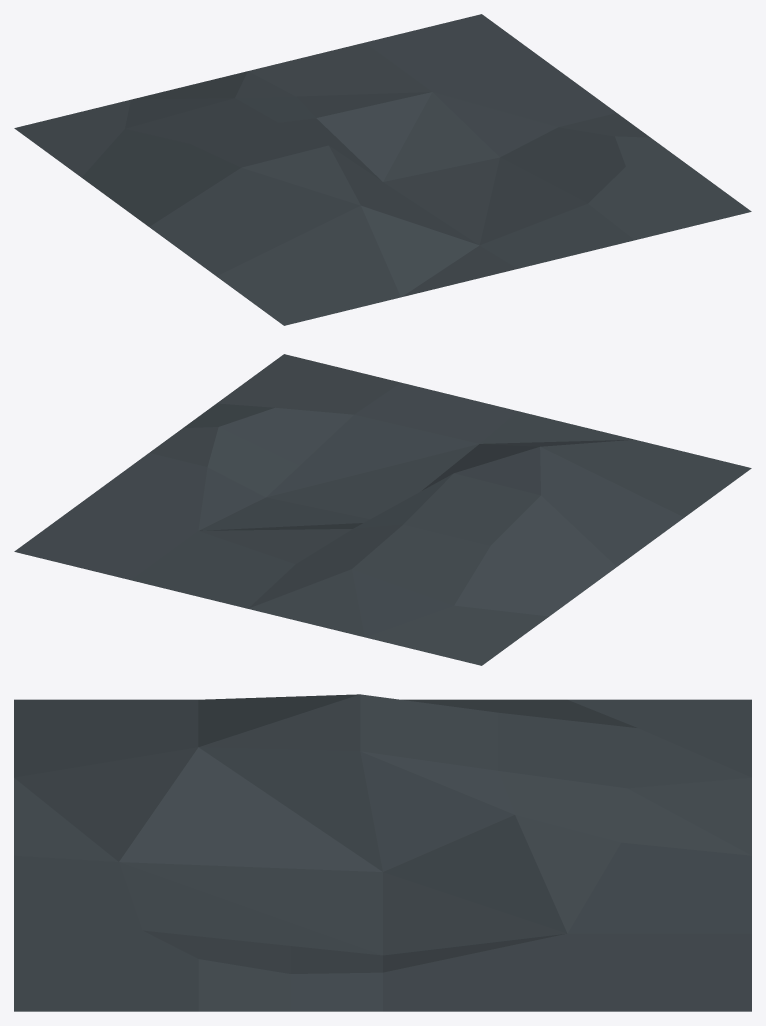
The model's file is Floor08.fbx.
The picture shows the model from 3 angles, top to bottom: view 1: azimuth 30°, elevation 25°; view 2: azimuth 150°, elevation 25°; view 3: azimuth 270°, elevation 25°; orthographic projection. The views are drawn at different scales.
Visible parts, largest first — view 1: Floor08; view 2: Floor08; view 3: Floor08.
Part boxes in pixels (left/top/right/bottom): Floor08: left=14, top=14, right=751, bottom=325; Floor08: left=14, top=354, right=751, bottom=665; Floor08: left=14, top=694, right=751, bottom=1011.
Size of the model in its own units: 2032 by 257 by 2032.
